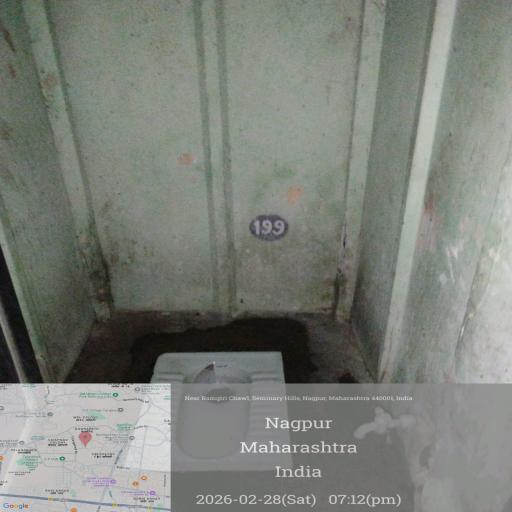partial_dirty_floor: (18, 46, 450, 324), (34, 322, 416, 512)
partial_dirty_indian: (149, 352, 317, 487)
